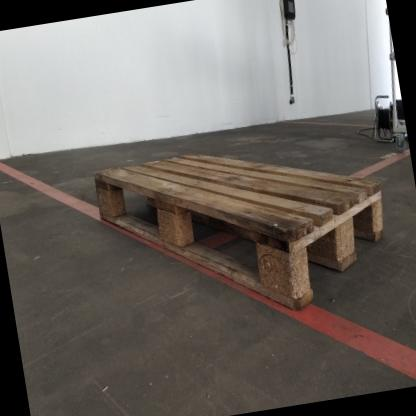BoxFace: (92, 147, 386, 314)
